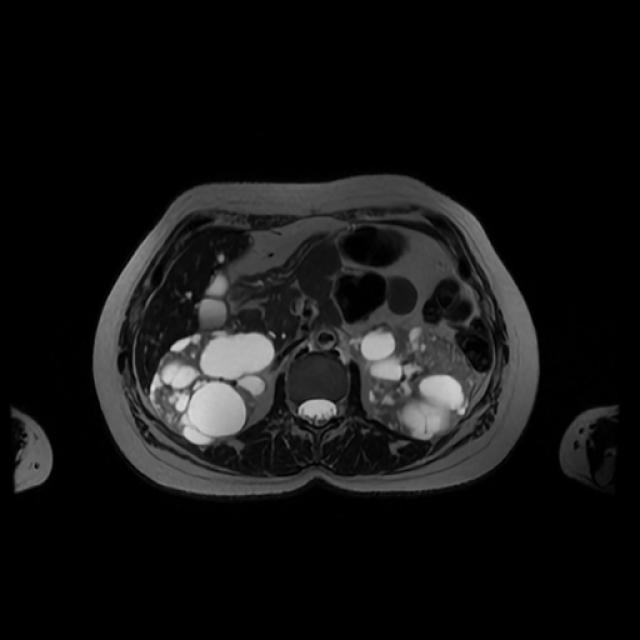sag: (150, 330, 275, 445)
sol: (362, 325, 477, 439)
